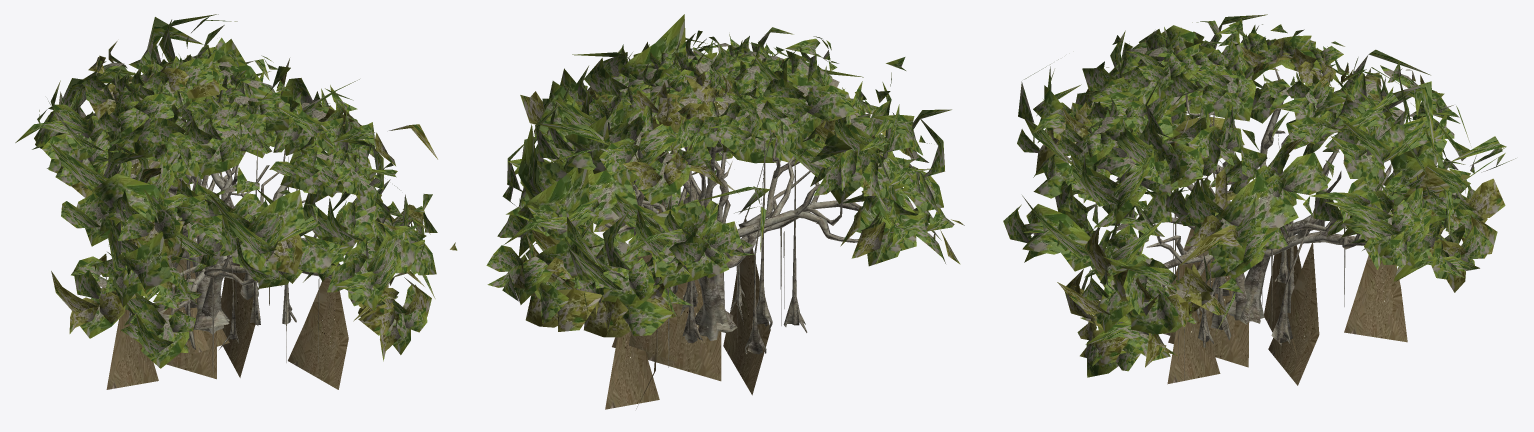
The model's file is Banyan_Hero_Forest_Big_001_922232.glb.
3 views of the same model, side by side, from view 1: azimuth 30°, elevation 25°; view 2: azimuth 150°, elevation 25°; view 3: azimuth 270°, elevation 25° (orthographic). The views are drawn at different scales.
Size of the model in its own units: 23.46 by 18.35 by 24.29.
Materials: 2 (2 with a texture image).
